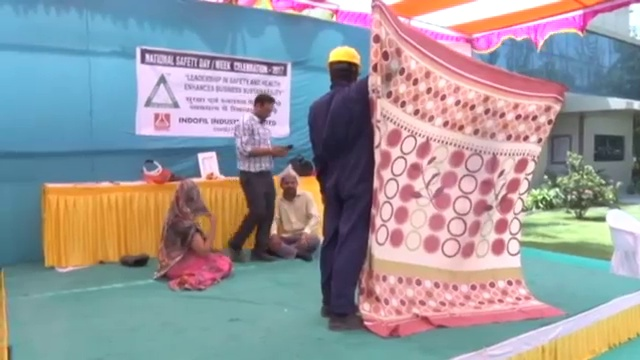helmet: (326, 45, 361, 67)
helmet_off: (279, 170, 300, 200), (175, 180, 200, 203), (254, 94, 276, 120)
helmet_on: (325, 45, 363, 85)
person: (309, 43, 373, 329), (229, 94, 276, 267), (158, 180, 231, 289), (271, 165, 320, 259)
